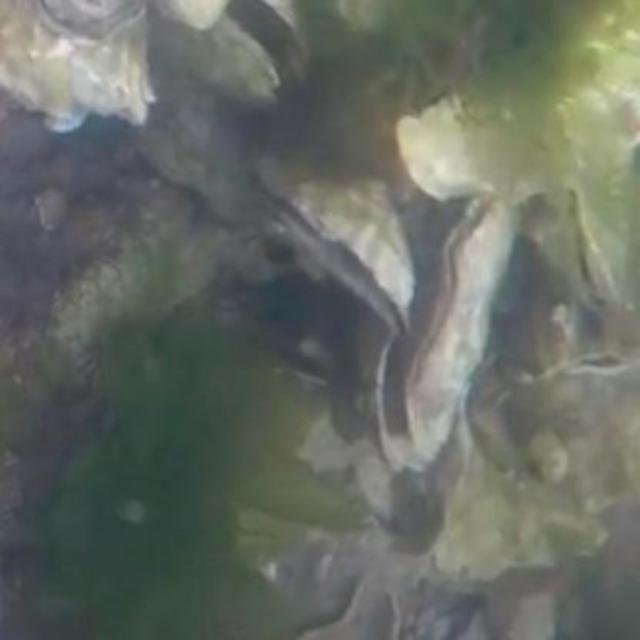Oyster-Closed: (0, 0, 163, 131), (402, 84, 561, 200)
Oyster-Open: (401, 198, 517, 469), (240, 178, 416, 348), (149, 0, 322, 124), (529, 188, 634, 312), (495, 350, 638, 429)
